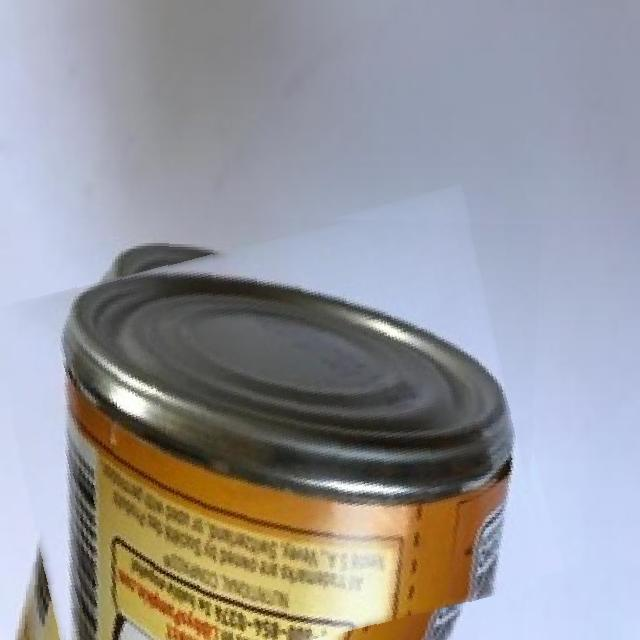recyclable: (12, 212, 542, 640)
